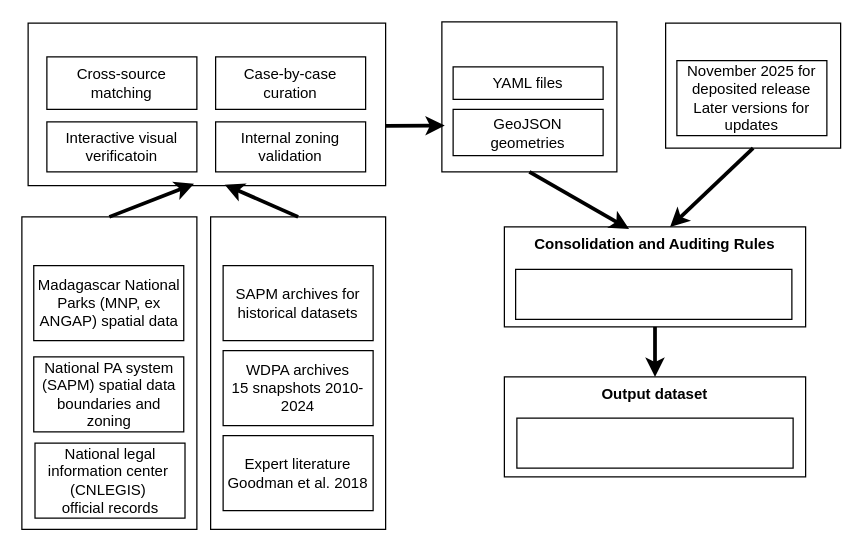
Image size: 863x551. Some labels were removed from this diagram. The box of each missing label's shape, as (x1, y1, x2, y2) in pixels:
Amendment Registry: (441, 21, 617, 172)
Consolidation and verification: (27, 22, 386, 186)
Cross-validation sources: (209, 216, 386, 529)
Deterministic R functions: (514, 268, 792, 319)
Input Data: (21, 216, 197, 529)
Spatiotemporal states of PAs Geopackage, RDS and GeoParquet: (516, 417, 793, 468)
WDPA baseline: (664, 22, 841, 148)
